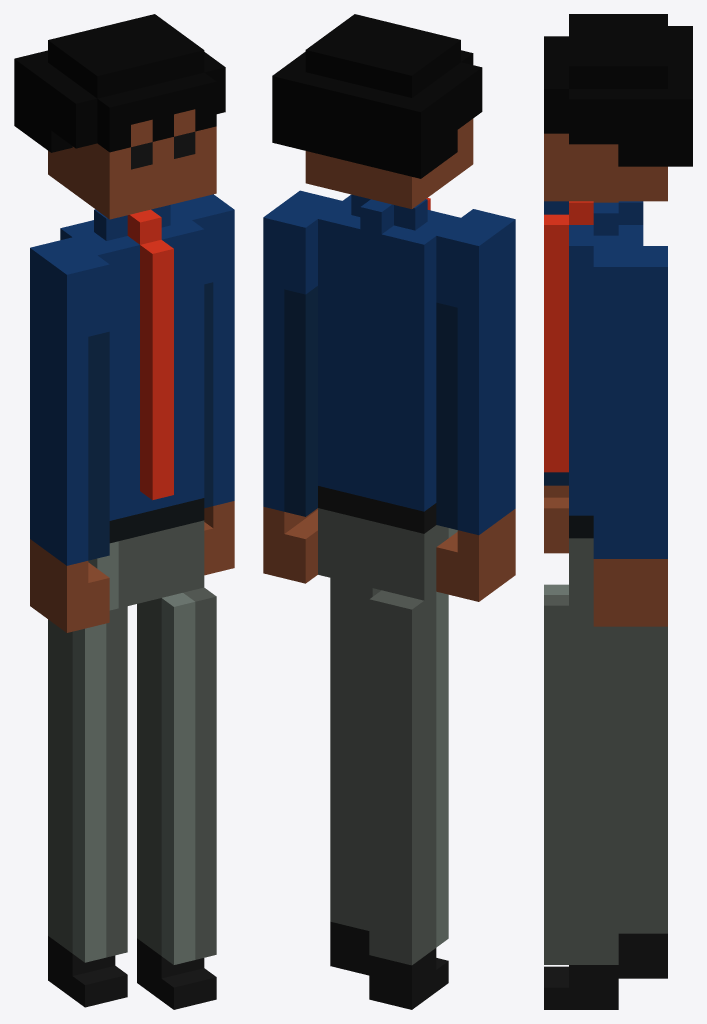
File: Tony_Ethn3_Walking1.obj
3 views of the same model, side by side, from view 1: azimuth 30°, elevation 25°; view 2: azimuth 150°, elevation 25°; view 3: azimuth 270°, elevation 25° (orthographic).
Visible parts, largest first — view 1: Tony_Ethn3_Walking1; view 2: Tony_Ethn3_Walking1; view 3: Tony_Ethn3_Walking1.
Boxes of the visible parts, x1=… form: Tony_Ethn3_Walking1: x1=14, y1=14, x2=234, y2=1009; Tony_Ethn3_Walking1: x1=263, y1=14, x2=515, y2=1009; Tony_Ethn3_Walking1: x1=544, y1=14, x2=692, y2=1009.
Bounding box in the file's own units: 9 × 42 × 6.
Materials: 1 (1 with a texture image).
